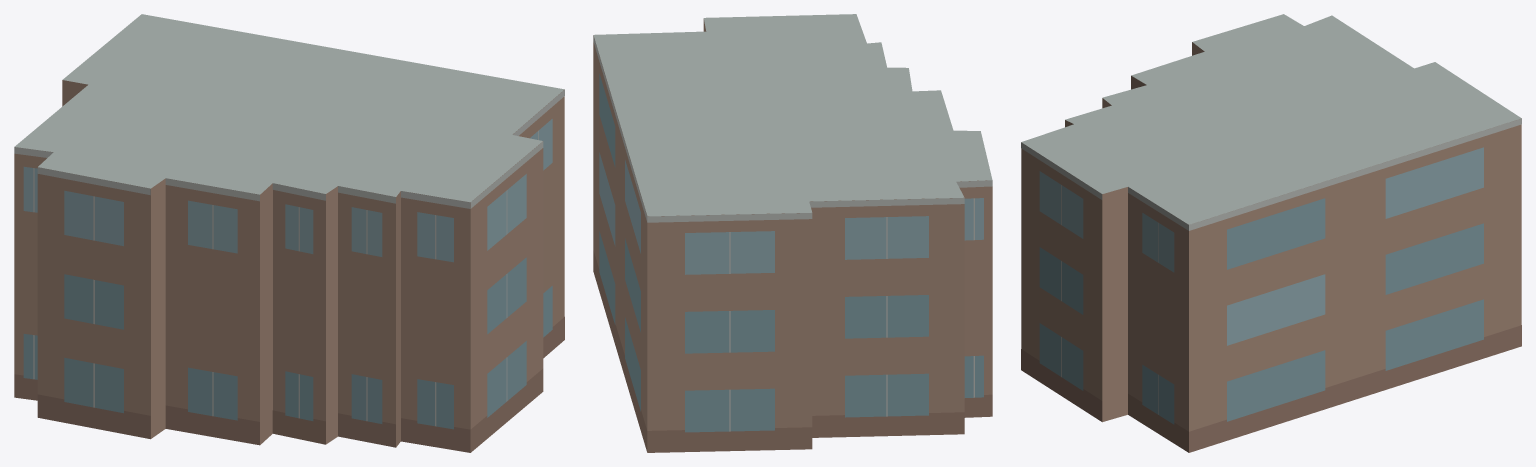
The model's file is survey-upis-32814712.glb.
3 renders of one model, left to right at view 1: azimuth 30°, elevation 25°; view 2: azimuth 150°, elevation 25°; view 3: azimuth 270°, elevation 25°, orthographic. The views are drawn at different scales.
Parts seen in each view (by area): view 1: survey-upis-32814712.tmp; view 2: survey-upis-32814712.tmp; view 3: survey-upis-32814712.tmp.
Part boxes in pixels (x1,y1,x2,y2): survey-upis-32814712.tmp: [14, 14, 564, 452]; survey-upis-32814712.tmp: [593, 14, 992, 452]; survey-upis-32814712.tmp: [1021, 14, 1521, 452].
Bounding box in the file's own units: 18.16 × 9.15 × 18.22.
